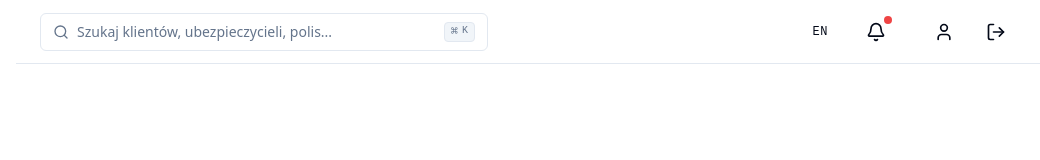
Scenario: Header — language switcher › switches back to English when the "EN" button is clicked
Click the button "EN" at (820,32), box left=800, top=14, right=840, bottom=50
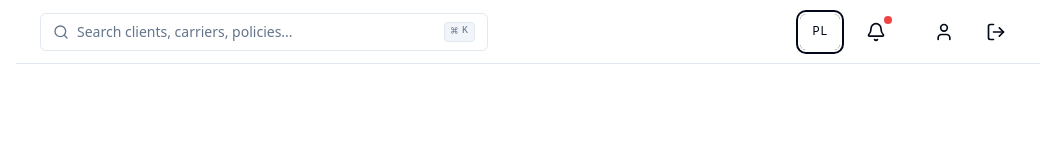
Check: the button "PL" is shown, box left=800, top=14, right=840, bottom=50
